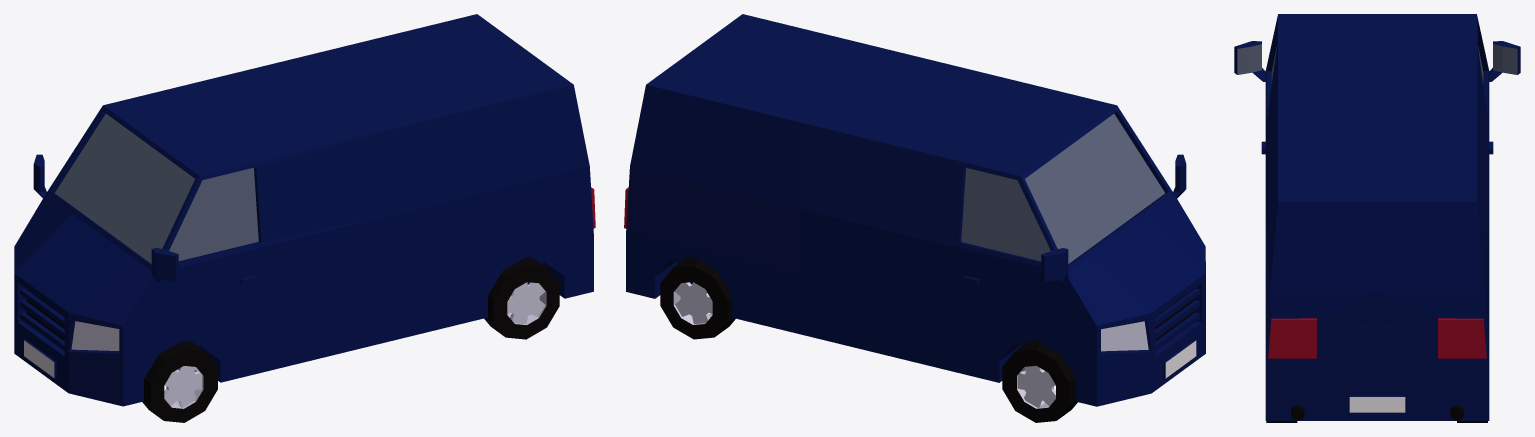
The model's file is van.glb.
3 views of the same model, side by side, from view 1: azimuth 30°, elevation 25°; view 2: azimuth 150°, elevation 25°; view 3: azimuth 270°, elevation 25° (orthographic). The views are drawn at different scales.
Visible parts, largest first — view 1: chassis, flwheel, blwheel; view 2: chassis, frwheel, brwheel; view 3: chassis.
Part boxes in pixels (bbox=[...]): chassis: bbox=[14, 14, 595, 406]; flwheel: bbox=[142, 341, 217, 422]; blwheel: bbox=[484, 257, 559, 339]; chassis: bbox=[624, 14, 1205, 406]; frwheel: bbox=[1002, 341, 1077, 422]; brwheel: bbox=[660, 257, 735, 339]; chassis: bbox=[1234, 14, 1520, 420].
Bounding box in the file's own units: 5.91 × 2.65 × 2.81.
